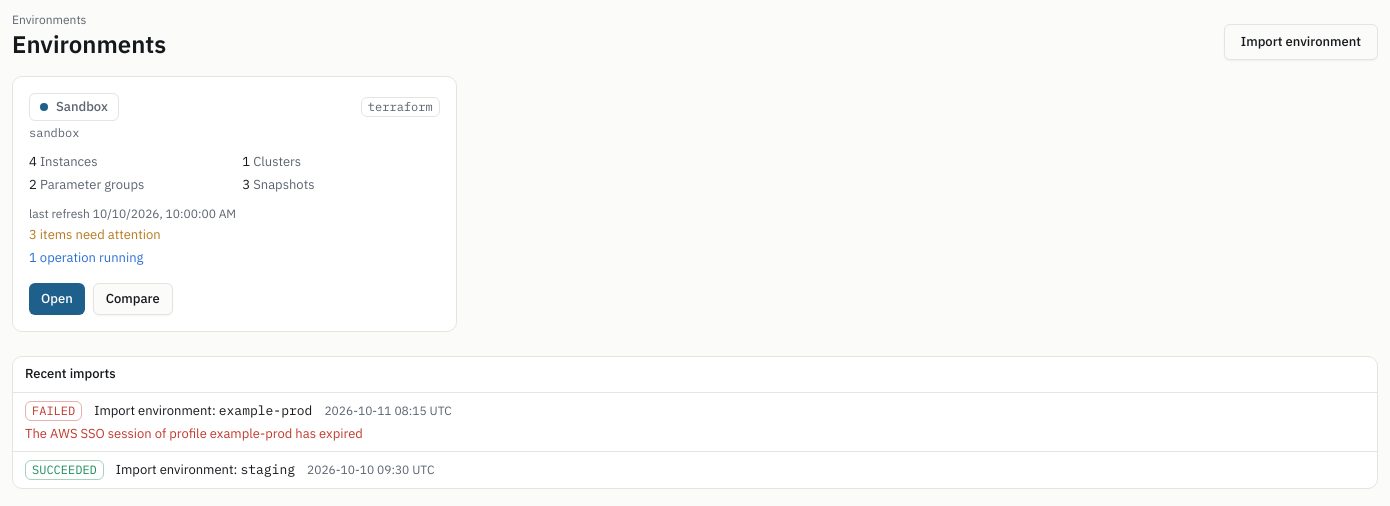
Scenario: EnvironmentsPage recent imports › lists recent imports with their state and time, and a failed one leads to its diagnostic
Expected: the text "FAILED" is shown, x1=25 y1=401 x2=82 y2=421
Expected: the text "2026-10-11 08:15 UTC" is shown, x1=324 y1=403 x2=452 y2=419
Click the link "Import environment: example-prod".
click(203, 411)  # box x1=94 y1=402 x2=312 y2=420
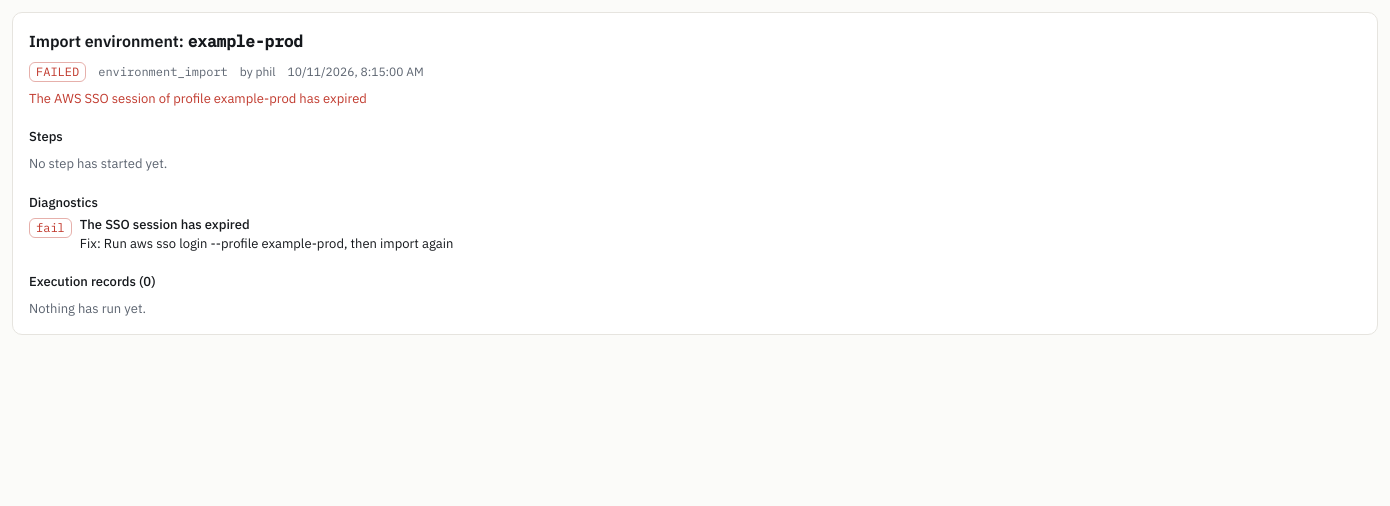
Expected: the text "Fix: Run aws sso login --profile example-prod, then import again" is shown, x1=80 y1=235 x2=453 y2=253
